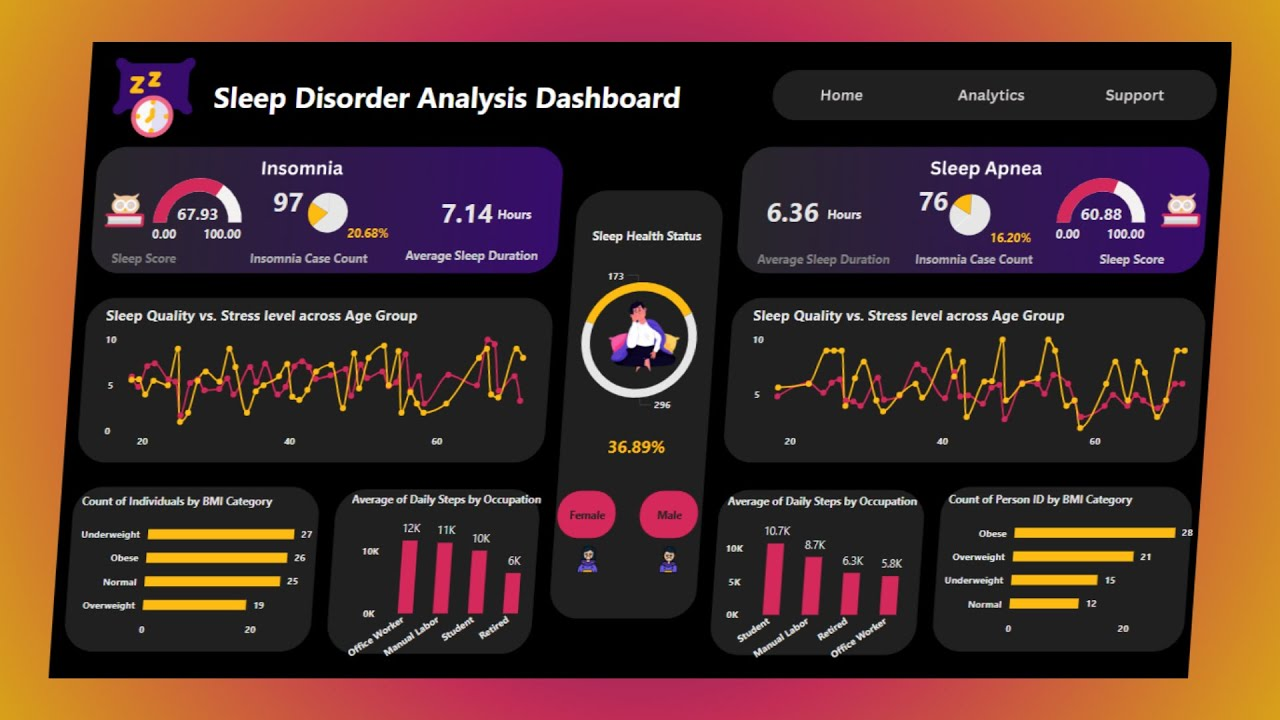

What the dashboard file says about the page in this screenshot:
{"tool":"powerbi","page":{"name":"Page 1","canvas":[1280,720],"ordinal":0},"visuals":[{"type":"card","fields":{"Values":["SleepDisorder_Dataset.Insomnia_count"]},"box":[164.7,149.2,150.5,89.5],"z":0},{"type":"card","fields":{"Values":["SleepDisorder_Dataset.SleepApnea_Count"]},"box":[931.3,166,97.3,61],"z":1000},{"type":"card","fields":{"Values":["SleepDisorder_Dataset.AverageSleepDurationof_Insomnia"]},"box":[372.3,157,146.6,79.1],"z":2000},{"type":"card","fields":{"Values":["SleepDisorder_Dataset.Average_Sleep_Duration_of_SleepApena"]},"box":[738.1,157,115.4,55.8],"z":3000},{"type":"gauge","fields":{"Y":["SleepDisorder_Dataset.SleepScoreOfInsomnia"]},"box":[85.6,151.8,110.3,80.4],"z":4000},{"type":"gauge","fields":{"Y":["SleepDisorder_Dataset.SleepScoreOfSleepApena"]},"box":[1077.9,150.5,166,77.8],"z":5000},{"type":"textbox","box":[115.4,33.7,494.2,50.6],"z":6000},{"type":"card","fields":{"Values":["SleepDisorder_Dataset.Insomnia_Percentage"]},"box":[298.3,203.6,73.9,45.4],"z":7000},{"type":"card","fields":{"Values":["SleepDisorder_Dataset.Sleep_Apnea_Percentage"]},"box":[1040.3,189.4,79.1,59.7],"z":8000},{"type":"pieChart","fields":{"Category":["SleepDisorder_Dataset.Sleep Disorder"],"Y":["CountNonNull(SleepDisorder_Dataset.Sleep Disorder)"]},"box":[240,166,105.1,63.6],"z":9000},{"type":"pieChart","fields":{"Category":["SleepDisorder_Dataset.Sleep Disorder"],"Y":["CountNonNull(SleepDisorder_Dataset.Sleep Disorder)"]},"box":[991,164.7,75.2,64.9],"z":10000},{"type":"textbox","box":[54.5,224.4,120.6,40.2],"z":11000},{"type":"textbox","box":[207.5,229.6,169.9,41.5],"z":12000},{"type":"textbox","box":[363.2,224.4,198.5,51.9],"z":13000},{"type":"textbox","box":[949.5,224.4,169.9,40.2],"z":14000},{"type":"lineChart","title":"Sleep Quality vs Stress Level across Age Group","fields":{"Category":["SleepDisorder_Dataset.Age"],"Y":["SleepDisorder_Dataset.AvgQStressLevel_Insomnia","SleepDisorder_Dataset.AvgQualitySleep_Insomnia"]},"box":[23.3,290.6,517.6,190.7],"z":15000},{"type":"lineChart","title":"Sleep Quality vs Stress level acrosss Age Group","fields":{"Y":["SleepDisorder_Dataset.AvgQStressLevel_SleepApnea","SleepDisorder_Dataset.AvgQualitySleep_Sleepapnea"],"Category":["SleepDisorder_Dataset.Age"]},"box":[751,290.6,507.2,190.7],"z":16000},{"type":"barChart","title":"Count of Individuals by BMI Category","fields":{"Category":["SleepDisorder_Dataset.BMI Category"],"Y":["CountNonNull(SleepDisorder_Dataset.Person ID)"]},"box":[6.5,504.6,269.8,190.7],"z":17000},{"type":"barChart","fields":{"Category":["SleepDisorder_Dataset.BMI Category"],"Y":["CountNonNull(SleepDisorder_Dataset.Person ID)"]},"box":[991,515,282.8,180.3],"z":18000},{"type":"textbox","box":[751,219.2,198.5,51.9],"z":19000},{"type":"columnChart","fields":{"Category":["SleepDisorder_Dataset.Occupation"],"Y":["Avg(SleepDisorder_Dataset.Daily Steps)"]},"box":[302.2,509.8,234.8,180.3],"z":20000},{"type":"columnChart","fields":{"Category":["SleepDisorder_Dataset.Occupation"],"Y":["Avg(SleepDisorder_Dataset.Daily Steps)"]},"box":[751,509.8,230.9,169.9],"z":21000},{"type":"donutChart","fields":{"Y":["SleepDisorder_Dataset.SleepDisorderCount","SleepDisorder_Dataset.NoSleepDisorderCount"]},"box":[518.9,238.7,242.6,195.9],"z":22000},{"type":"card","fields":{"Values":["SleepDisorder_Dataset.SleepDisorderPercentage"]},"box":[561.7,425.5,151.8,55.8],"z":23000},{"type":"slicer","fields":{"Values":["SleepDisorder_Dataset.Gender"]},"box":[541.9,504.7,184.9,58.1],"z":24000},{"type":"textbox","box":[1160.9,219.2,97.3,33.7],"z":25000},{"type":"textbox","box":[483.8,180.3,58.4,33.7],"z":26000},{"type":"textbox","box":[823.7,177.7,58.4,33.7],"z":27000},{"type":"textbox","box":[574.6,197.2,190.7,42.8],"z":28000}]}

Visuals, with their boxes in screenshot pixels (x1, y1, x2, y2), scaled from the page's 1280x720 canvas onto the 1280x720 screenshot:
card - SleepDisorder_Dataset.Insomnia_count: [x1=165, y1=149, x2=315, y2=239]
card - SleepDisorder_Dataset.SleepApnea_Count: [x1=931, y1=166, x2=1029, y2=227]
card - SleepDisorder_Dataset.AverageSleepDurationof_Insomnia: [x1=372, y1=157, x2=519, y2=236]
card - SleepDisorder_Dataset.Average_Sleep_Duration_of_SleepApena: [x1=738, y1=157, x2=854, y2=213]
gauge - SleepDisorder_Dataset.SleepScoreOfInsomnia: [x1=86, y1=152, x2=196, y2=232]
gauge - SleepDisorder_Dataset.SleepScoreOfSleepApena: [x1=1078, y1=150, x2=1244, y2=228]
textbox: [x1=115, y1=34, x2=610, y2=84]
card - SleepDisorder_Dataset.Insomnia_Percentage: [x1=298, y1=204, x2=372, y2=249]
card - SleepDisorder_Dataset.Sleep_Apnea_Percentage: [x1=1040, y1=189, x2=1119, y2=249]
pieChart - SleepDisorder_Dataset.Sleep Disorder x CountNonNull(SleepDisorder_Dataset.Sleep Disorder): [x1=240, y1=166, x2=345, y2=230]
pieChart - SleepDisorder_Dataset.Sleep Disorder x CountNonNull(SleepDisorder_Dataset.Sleep Disorder): [x1=991, y1=165, x2=1066, y2=230]
textbox: [x1=54, y1=224, x2=175, y2=265]
textbox: [x1=208, y1=230, x2=377, y2=271]
textbox: [x1=363, y1=224, x2=562, y2=276]
textbox: [x1=950, y1=224, x2=1119, y2=265]
"Sleep Quality vs Stress Level across Age Group" lineChart: [x1=23, y1=291, x2=541, y2=481]
"Sleep Quality vs Stress level acrosss Age Group" lineChart: [x1=751, y1=291, x2=1258, y2=481]
"Count of Individuals by BMI Category" barChart: [x1=6, y1=505, x2=276, y2=695]
barChart - SleepDisorder_Dataset.BMI Category x CountNonNull(SleepDisorder_Dataset.Person ID): [x1=991, y1=515, x2=1274, y2=695]
textbox: [x1=751, y1=219, x2=950, y2=271]
columnChart - SleepDisorder_Dataset.Occupation x Avg(SleepDisorder_Dataset.Daily Steps): [x1=302, y1=510, x2=537, y2=690]
columnChart - SleepDisorder_Dataset.Occupation x Avg(SleepDisorder_Dataset.Daily Steps): [x1=751, y1=510, x2=982, y2=680]
donutChart - SleepDisorder_Dataset.SleepDisorderCount x SleepDisorder_Dataset.NoSleepDisorderCount: [x1=519, y1=239, x2=762, y2=435]
card - SleepDisorder_Dataset.SleepDisorderPercentage: [x1=562, y1=426, x2=714, y2=481]
slicer - SleepDisorder_Dataset.Gender: [x1=542, y1=505, x2=727, y2=563]
textbox: [x1=1161, y1=219, x2=1258, y2=253]
textbox: [x1=484, y1=180, x2=542, y2=214]
textbox: [x1=824, y1=178, x2=882, y2=211]
textbox: [x1=575, y1=197, x2=765, y2=240]
